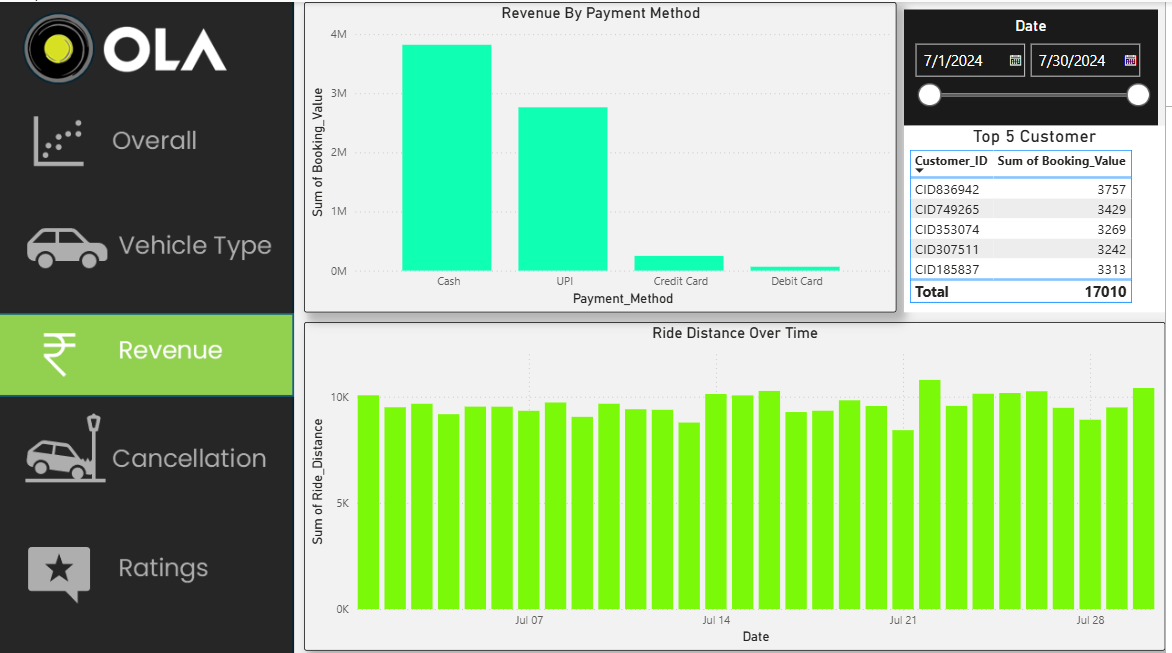

What the dashboard file says about the page in this screenshot:
{"tool":"powerbi","page":{"name":" Revenue","canvas":[1280,720],"ordinal":2},"visuals":[{"type":"actionButton","box":[0,203.6,322.6,92.9],"z":0},{"type":"actionButton","box":[2.4,431,322.6,103.6],"z":1000},{"type":"actionButton","box":[0,572.6,322.6,92.9],"z":2000},{"type":"actionButton","box":[0,110.2,323.2,93.2],"z":3000},{"type":"columnChart","title":"Revenue By Payment Method","fields":{"Y":["Sum(Bookings.Booking_Value)"],"Category":["Bookings.Payment_Method"]},"box":[334.5,0,650,340.5],"z":4000},{"type":"columnChart","title":"Ride Distance Over Time","fields":{"Y":["Sum(Bookings.Ride_Distance)"],"Category":["Bookings.Date"]},"box":[334.8,351.2,945.2,360.7],"z":5000},{"type":"slicer","title":"Date","fields":{"Values":["Bookings.Date"]},"box":[992.9,8.3,278.6,127.4],"z":6000},{"type":"tableEx","title":"Top 5 Customer","fields":{"Values":["Bookings.Customer_ID","Sum(Bookings.Booking_Value)"]},"box":[992.9,135.7,286.9,204.8],"z":8000}]}

Visuals, with their boxes in screenshot pixels (x1, y1, x2, y2), scaled from the page's 1280x720 canvas onto the 1172x653 screenshot:
actionButton: locate(0, 185, 295, 269)
actionButton: locate(2, 391, 298, 485)
actionButton: locate(0, 519, 295, 604)
actionButton: locate(0, 100, 296, 184)
"Revenue By Payment Method" columnChart: locate(306, 0, 901, 309)
"Ride Distance Over Time" columnChart: locate(307, 319, 1171, 646)
"Date" slicer: locate(909, 8, 1164, 123)
"Top 5 Customer" tableEx: locate(909, 123, 1171, 309)
